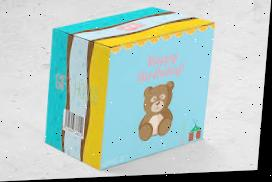cube: (43, 5, 217, 170)
